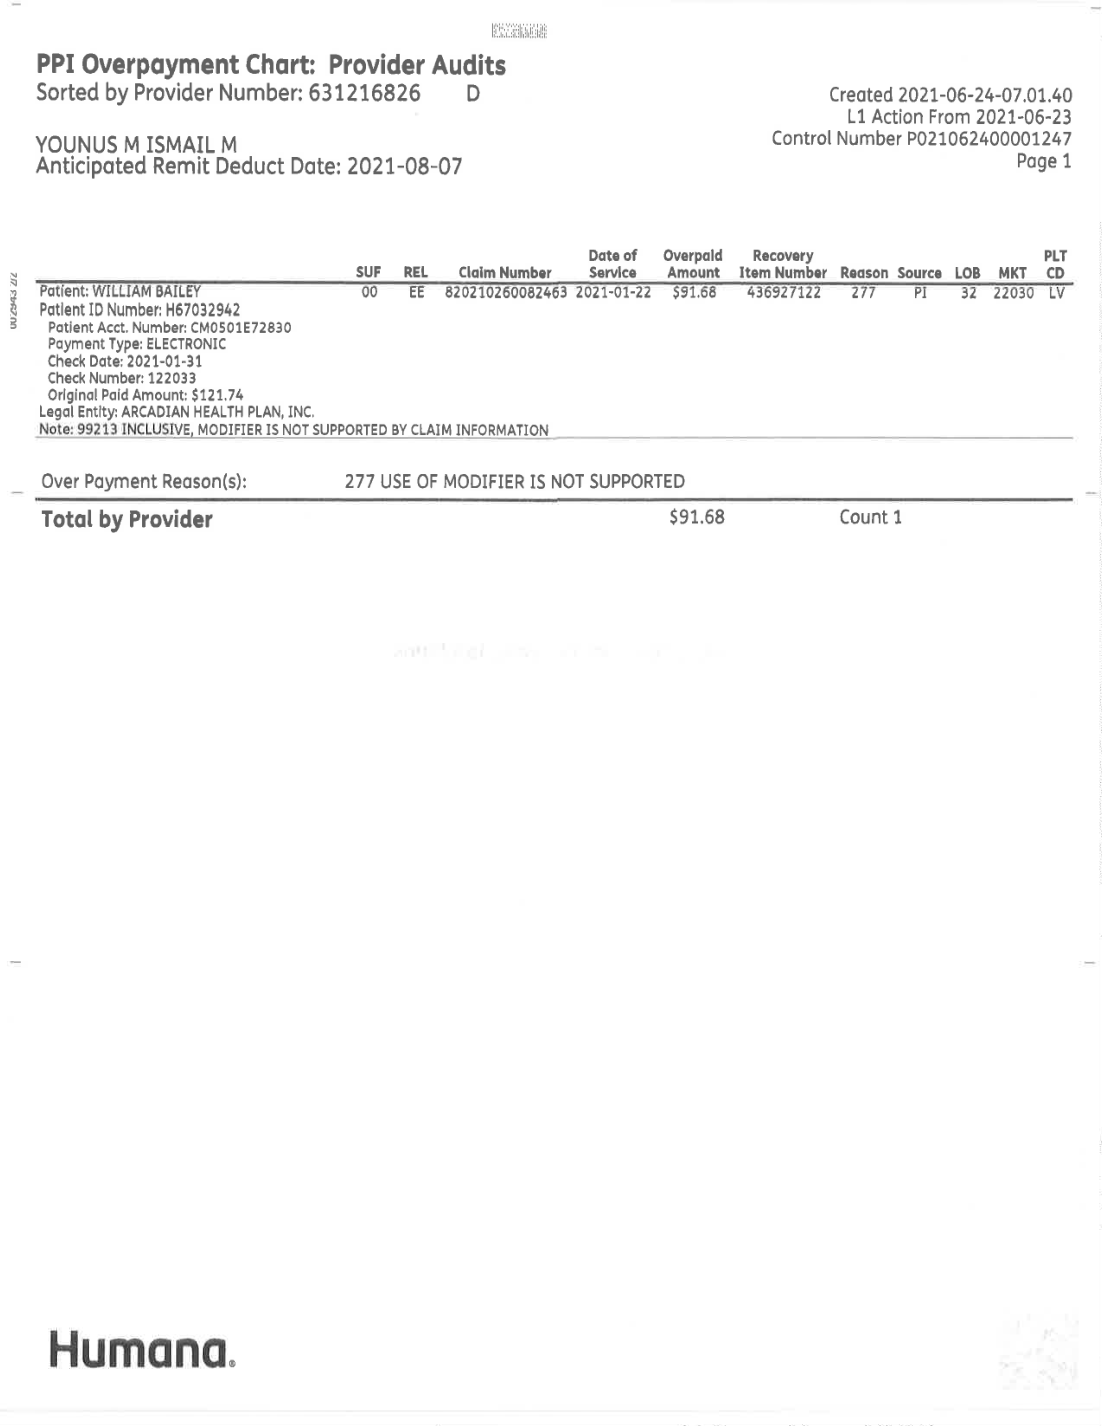data: (763, 76, 1080, 176)
table: (31, 242, 1085, 451)
